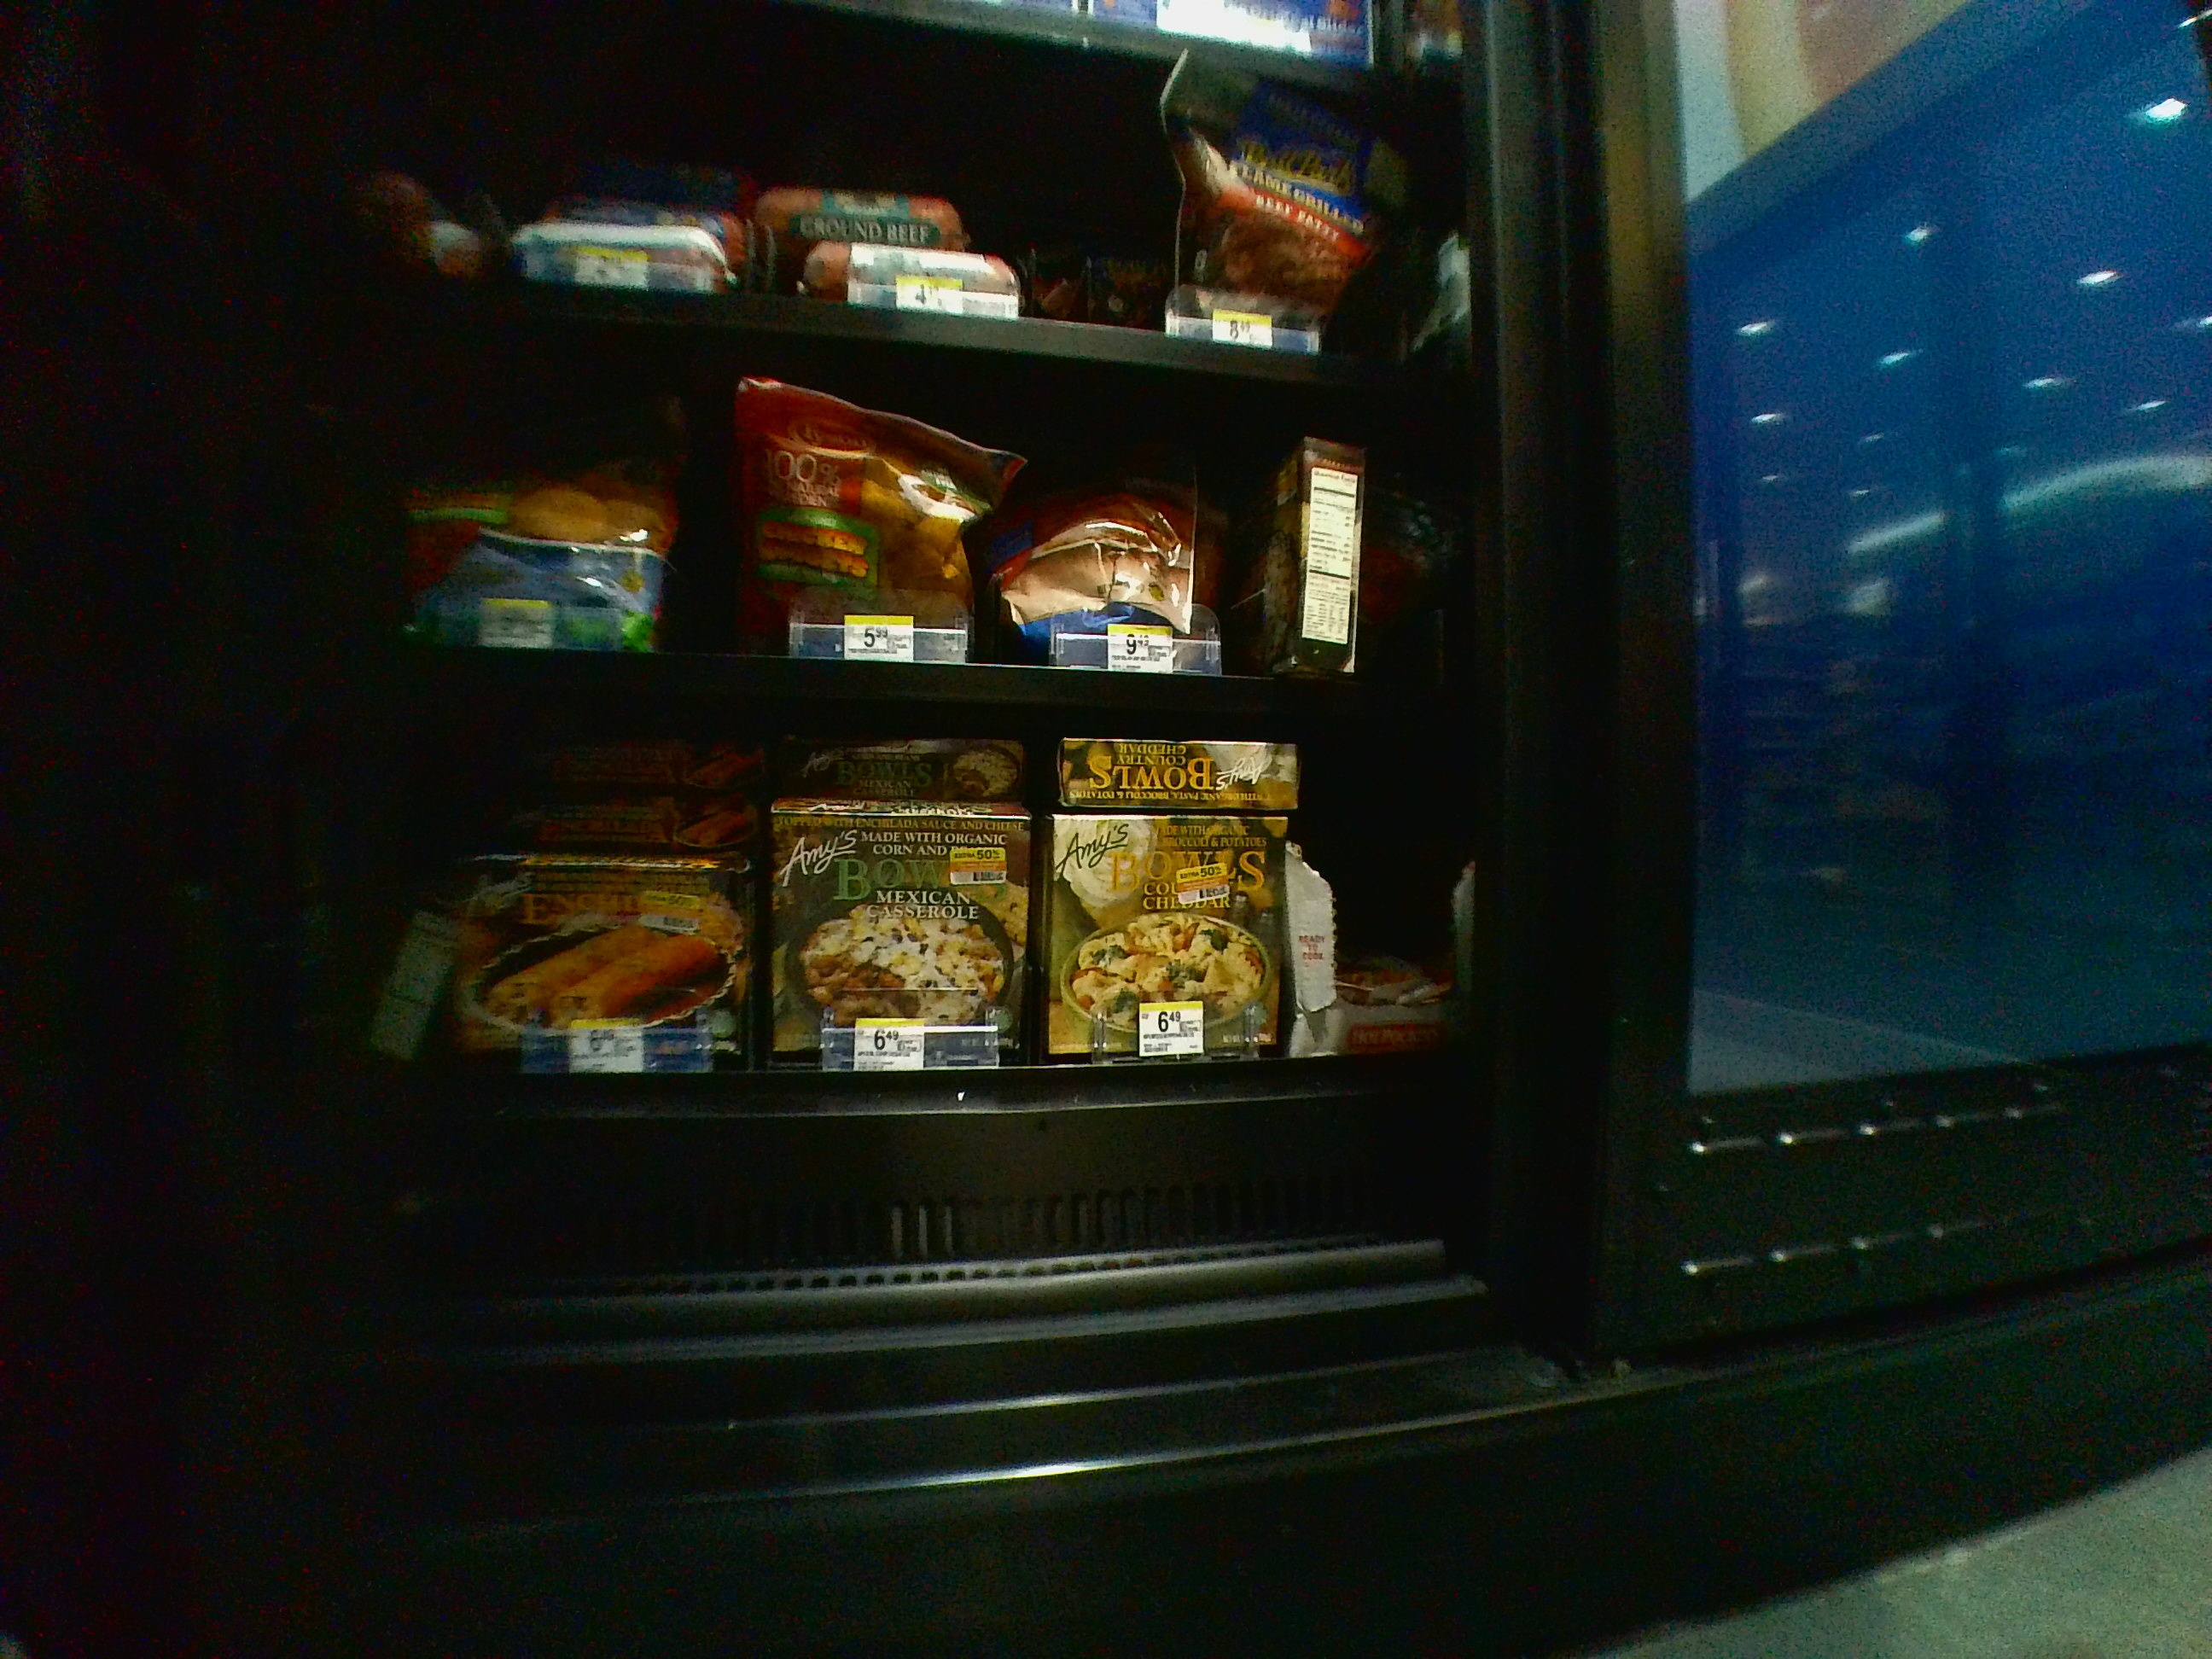shelf: (361, 742, 1475, 1270), (364, 342, 1463, 728)
